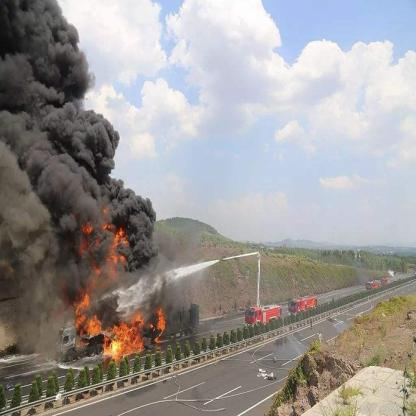fire: (83, 206, 128, 277), (102, 316, 146, 362), (72, 290, 102, 343), (150, 304, 166, 343)
other: (241, 298, 282, 329), (288, 293, 315, 317), (365, 274, 388, 290)
smoke: (3, 2, 66, 217), (5, 220, 74, 314), (80, 113, 116, 203), (66, 58, 83, 206), (128, 200, 154, 263)
